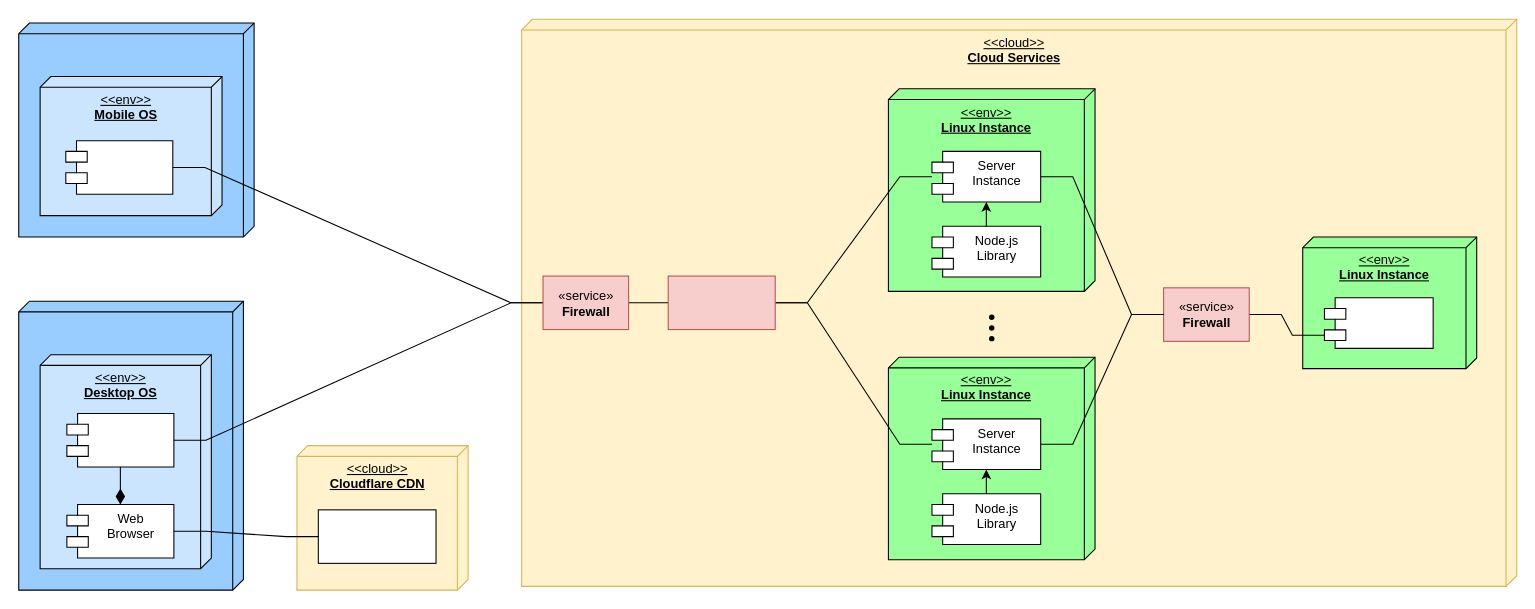
Image size: 1535x609. Some labels were removed from this diagram. Here are the shapes that lost their labels. From the top down, the box of each, then its label:
(18, 22, 254, 237): <<device>> Mobile Device
(65, 140, 173, 194): Mobile App
(667, 275, 775, 330): «service» Load Balancer
(1323, 297, 1433, 348): MySQL DBMS
(66, 412, 174, 467): Web App
(18, 300, 243, 590): <<device>> PC
(317, 509, 436, 563): «artifact» Static Page
